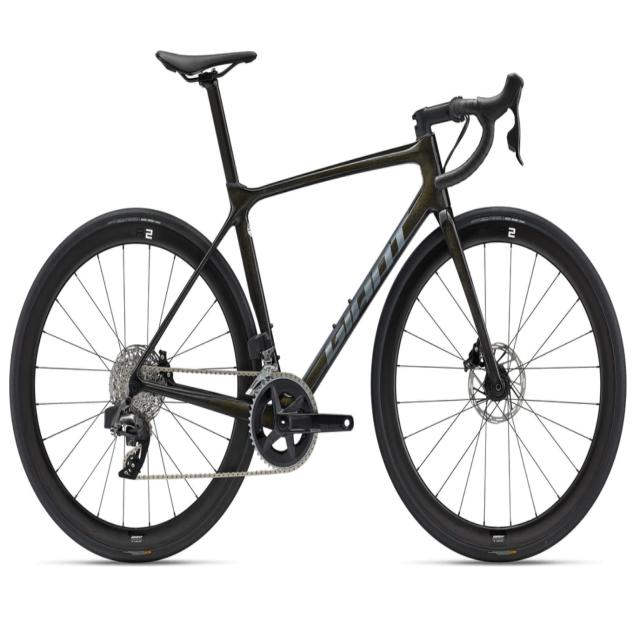road-bike: (10, 52, 627, 564)
